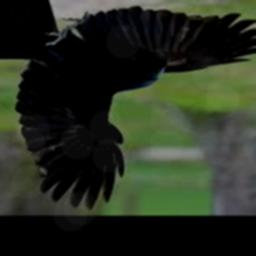Crow: (0, 0, 256, 210)
